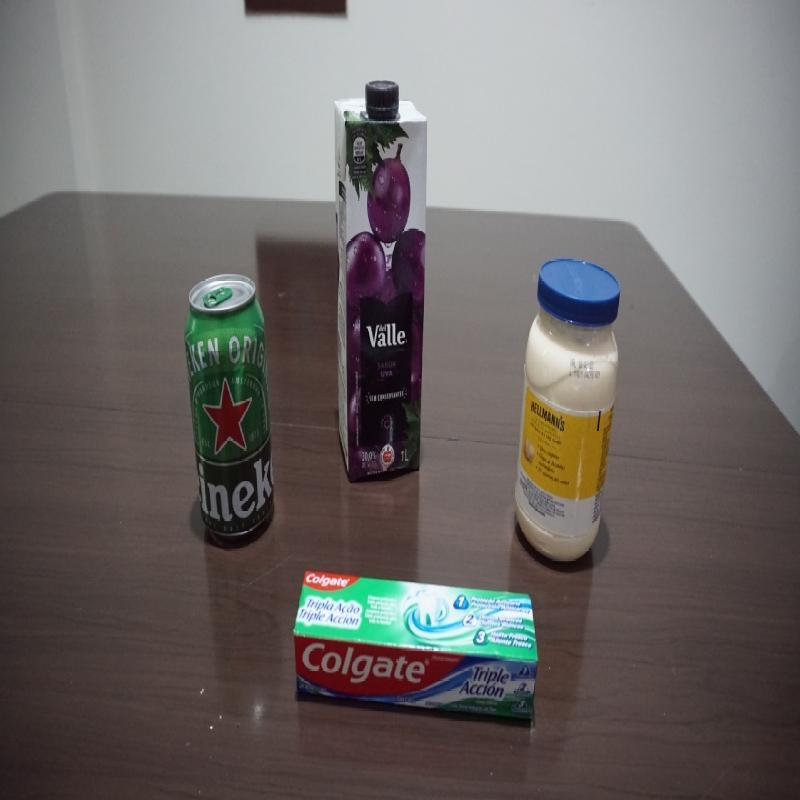Beer can: (187, 266, 277, 547)
Mayonnaise: (508, 256, 625, 567)
Toothpaste: (290, 571, 541, 728)
